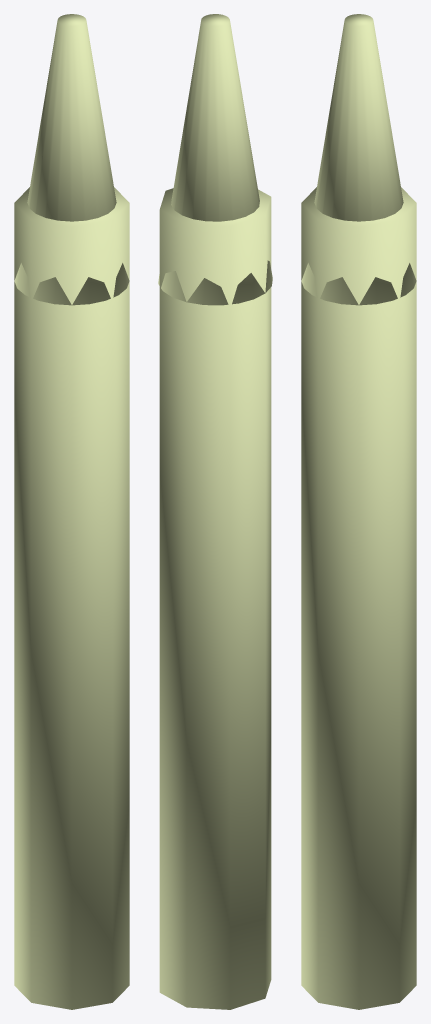
File: lemongrass.fbx
3 renders of one model, left to right at view 1: azimuth 90°, elevation 25°; view 2: azimuth 150°, elevation 25°; view 3: azimuth 270°, elevation 25°, orthographic.
Visible parts, largest first — view 1: lemongrass; view 2: lemongrass; view 3: lemongrass.
Boxes of the visible parts, x1=… form: lemongrass: x1=14, y1=14, x2=129, y2=1009; lemongrass: x1=158, y1=14, x2=272, y2=1009; lemongrass: x1=301, y1=14, x2=416, y2=1009.
Size of the model in its own units: 0.04 by 0.37 by 0.04.
